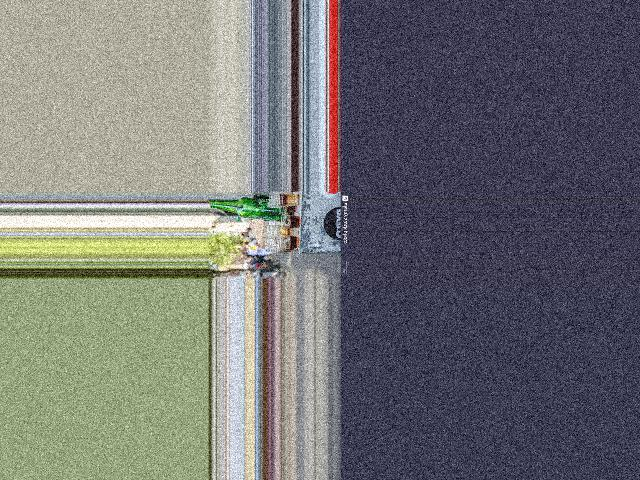beer: (210, 197, 291, 222)
